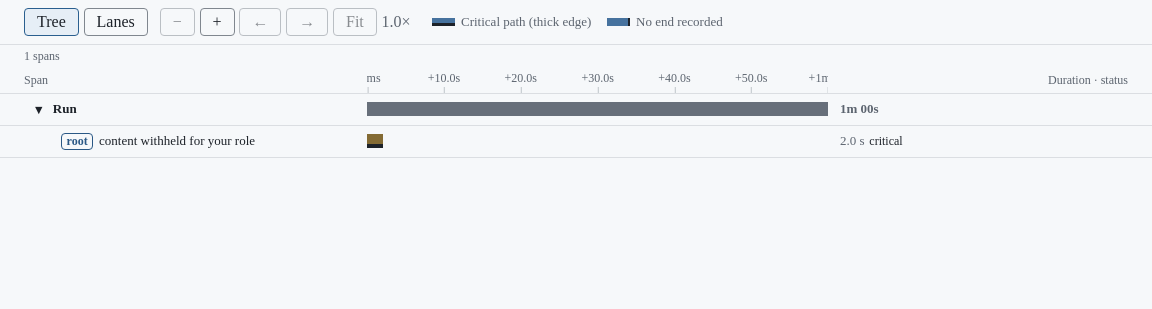
Test: Waterfall for a viewer without payload.read › shows the withheld notice in rows and tooltip, never the command or the marker
Step 1. Hover over the row "root content withheld for your role 2.0 s critical" → (576, 142), box [0,126,1151,158]
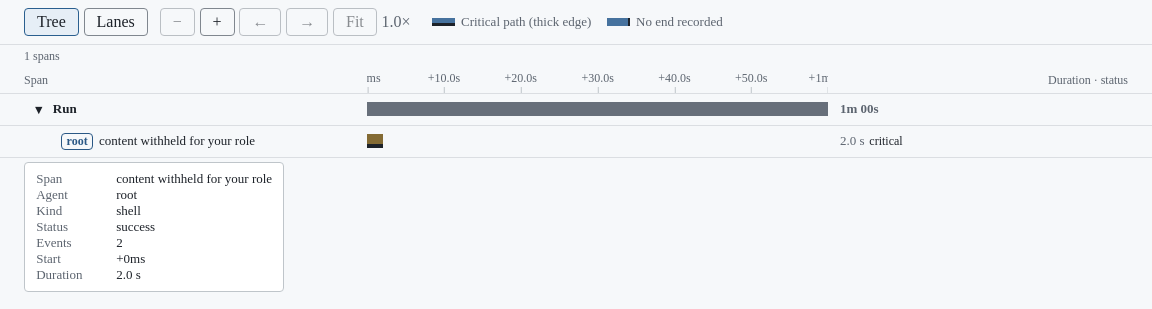
Check: the tooltip shows "content withheld for your role", box [116,171,272,186]
Step 2. Move the pointer off the row "root content withheld for your role 2.0 s critical", box [0,126,1151,158]
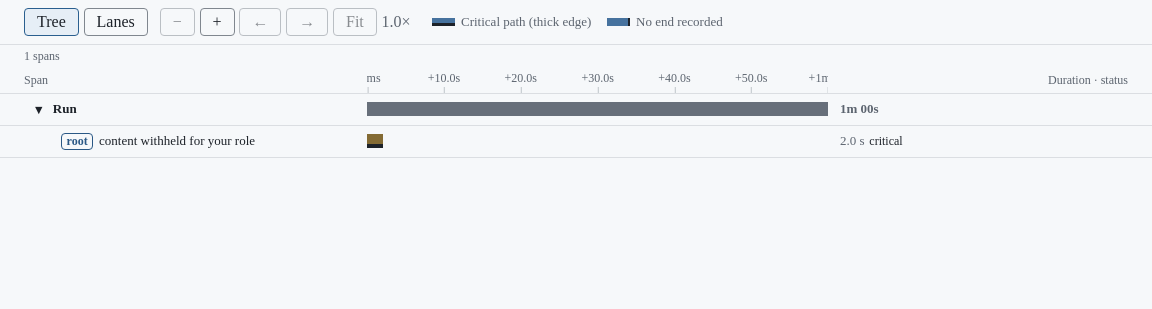
Check: the tooltip "Span content withheld for your role Agent root Kind shell Status success Events" is gone
